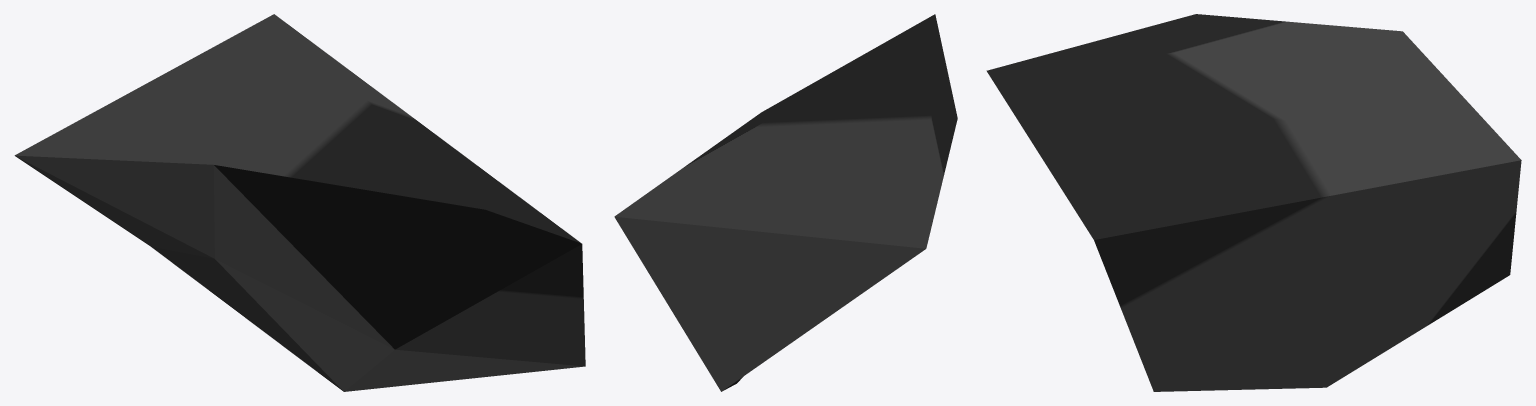
The model's file is rock_3_piece.fbx.
The picture shows the model from 3 angles, left to right: view 1: azimuth 30°, elevation 25°; view 2: azimuth 150°, elevation 25°; view 3: azimuth 270°, elevation 25°; orthographic projection. The views are drawn at different scales.
Parts seen in each view (by area): view 1: Icosphere; view 2: Icosphere; view 3: Icosphere.
Part boxes in pixels (box(x1,y1,x2,y2)): Icosphere: box(14, 14, 585, 391); Icosphere: box(614, 14, 957, 391); Icosphere: box(986, 14, 1521, 391).
Size of the model in its own units: 50.96 by 38.77 by 64.07.
